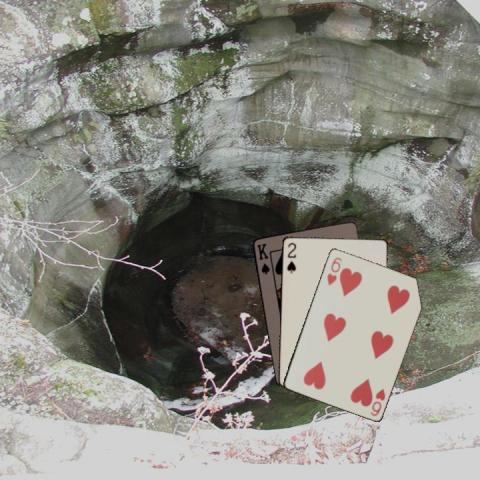2s: (284, 239, 297, 275)
6h: (366, 386, 387, 418), (324, 254, 343, 287)
Ks: (253, 240, 271, 275)
